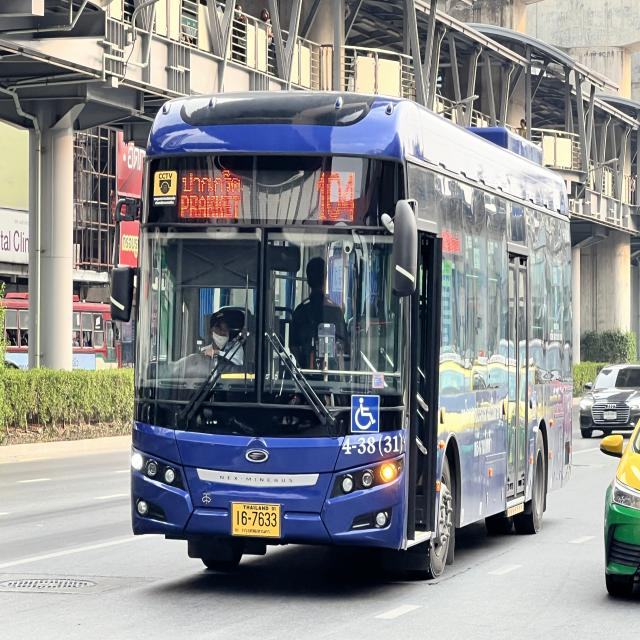Bus-Line-Number: (310, 164, 362, 225)
Destination-Sign-Normal: (180, 161, 247, 227)
TSB-Bus: (123, 76, 581, 582)
